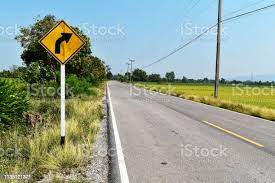left turn: (40, 20, 87, 64)
